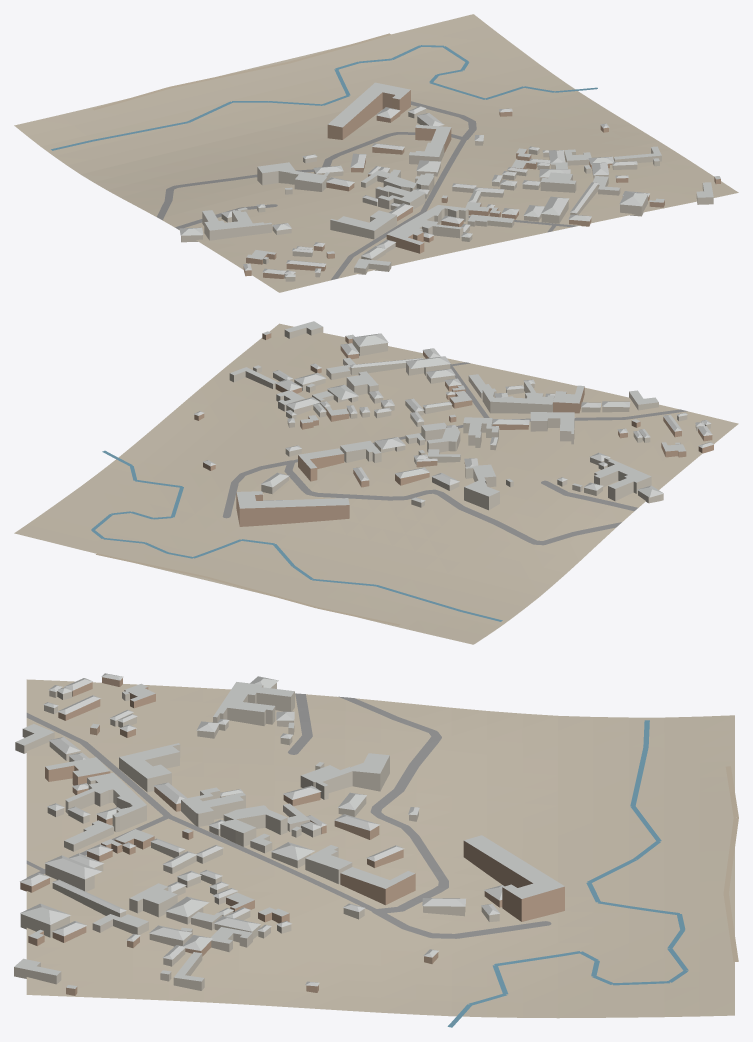
File: bolak_-13_-12.glb
3 renders of one model, top to bottom at view 1: azimuth 30°, elevation 25°; view 2: azimuth 150°, elevation 25°; view 3: azimuth 270°, elevation 25°, orthographic. The views are drawn at different scales.
Visible parts, largest first — view 1: Yer_Tuproq-col, Tom_Shifer, Devor_Suvoq-col, Devor_Gisht-col, Yol_Mahalla-col, Suv, Yol_Tuproq; view 2: Yer_Tuproq-col, Tom_Shifer, Devor_Suvoq-col, Devor_Gisht-col, Yol_Mahalla-col, Suv, Yol_Tuproq; view 3: Yer_Tuproq-col, Tom_Shifer, Devor_Suvoq-col, Devor_Gisht-col, Yol_Mahalla-col, Suv, Yol_Tuproq.
Boxes of the visible parts, bbox=[...] form: Yer_Tuproq-col: bbox=[14, 14, 738, 292]; Tom_Shifer: bbox=[179, 82, 720, 276]; Devor_Suvoq-col: bbox=[181, 109, 713, 281]; Devor_Gisht-col: bbox=[243, 90, 720, 278]; Yol_Mahalla-col: bbox=[157, 101, 578, 279]; Suv: bbox=[51, 45, 597, 150]; Yol_Tuproq: bbox=[92, 33, 391, 110]; Yer_Tuproq-col: bbox=[14, 323, 738, 644]; Tom_Shifer: bbox=[193, 321, 714, 508]; Devor_Suvoq-col: bbox=[229, 327, 710, 510]; Devor_Gisht-col: bbox=[194, 333, 713, 526]; Yol_Mahalla-col: bbox=[222, 362, 687, 545]; Suv: bbox=[91, 450, 502, 621]; Yol_Tuproq: bbox=[96, 553, 399, 625]; Yer_Tuproq-col: bbox=[26, 679, 734, 1018]; Tom_Shifer: bbox=[14, 673, 564, 988]; Devor_Suvoq-col: bbox=[14, 683, 499, 990]; Devor_Gisht-col: bbox=[20, 677, 564, 995]; Yol_Mahalla-col: bbox=[26, 693, 551, 938]; Suv: bbox=[447, 720, 688, 1027]; Yol_Tuproq: bbox=[723, 766, 738, 962].
Size of what is drawn, in the model's own units: 426 by 30.19 by 409.
